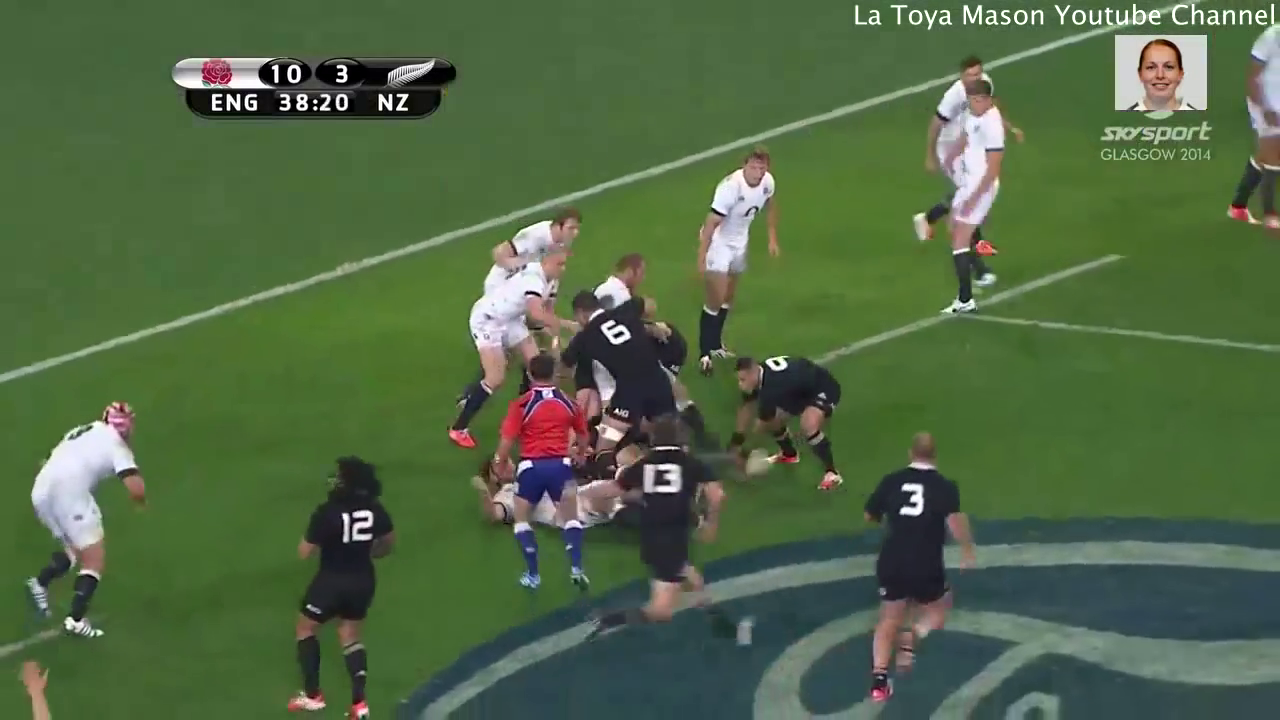player: (5, 380, 182, 643), (840, 409, 985, 720), (257, 454, 418, 720), (560, 276, 697, 503), (892, 39, 1029, 264), (437, 248, 569, 462), (689, 124, 790, 396), (482, 344, 591, 592), (719, 336, 876, 502), (937, 65, 1029, 316), (472, 200, 596, 322), (1220, 17, 1280, 231)
